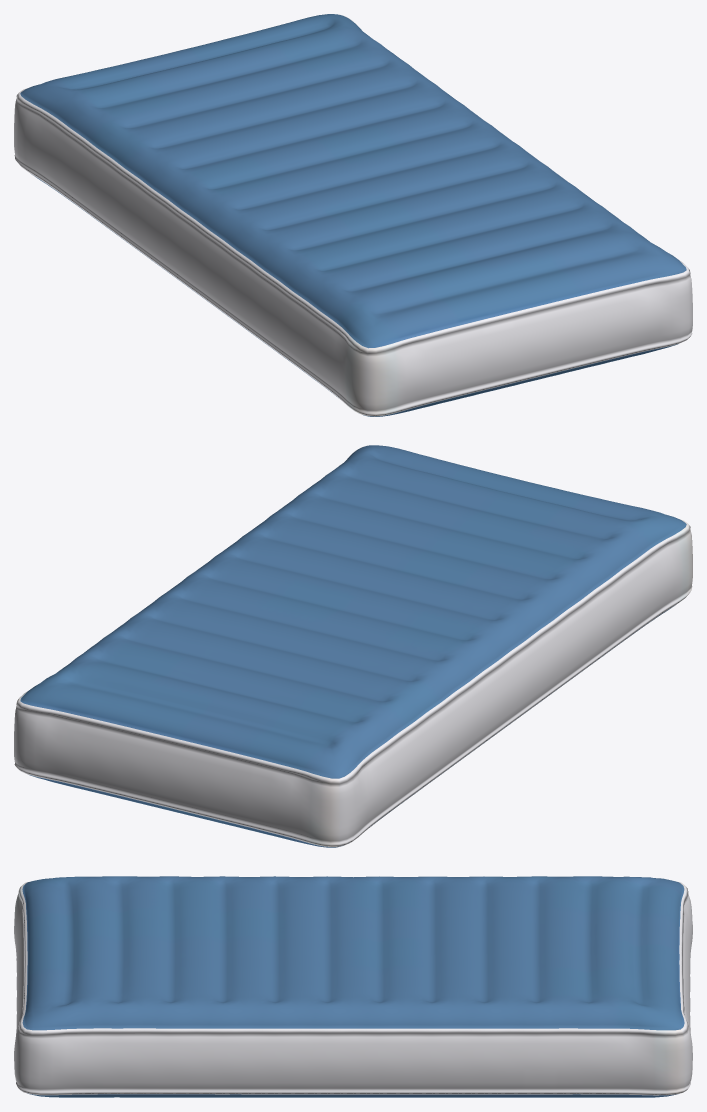
File: Bed49.glb
The picture shows the model from 3 angles, top to bottom: view 1: azimuth 30°, elevation 25°; view 2: azimuth 150°, elevation 25°; view 3: azimuth 270°, elevation 25°; orthographic projection. The views are drawn at different scales.
Parts seen in each view (by area): view 1: Mattress49; view 2: Mattress49; view 3: Mattress49.
Boxes of the visible parts, <box> form: Mattress49: <box>14,14,692,416</box>; Mattress49: <box>14,445,692,847</box>; Mattress49: <box>14,876,692,1097</box>.
Size of the model in its own units: 2.69 by 0.8125 by 4.98.
1 material, 1 textured.
